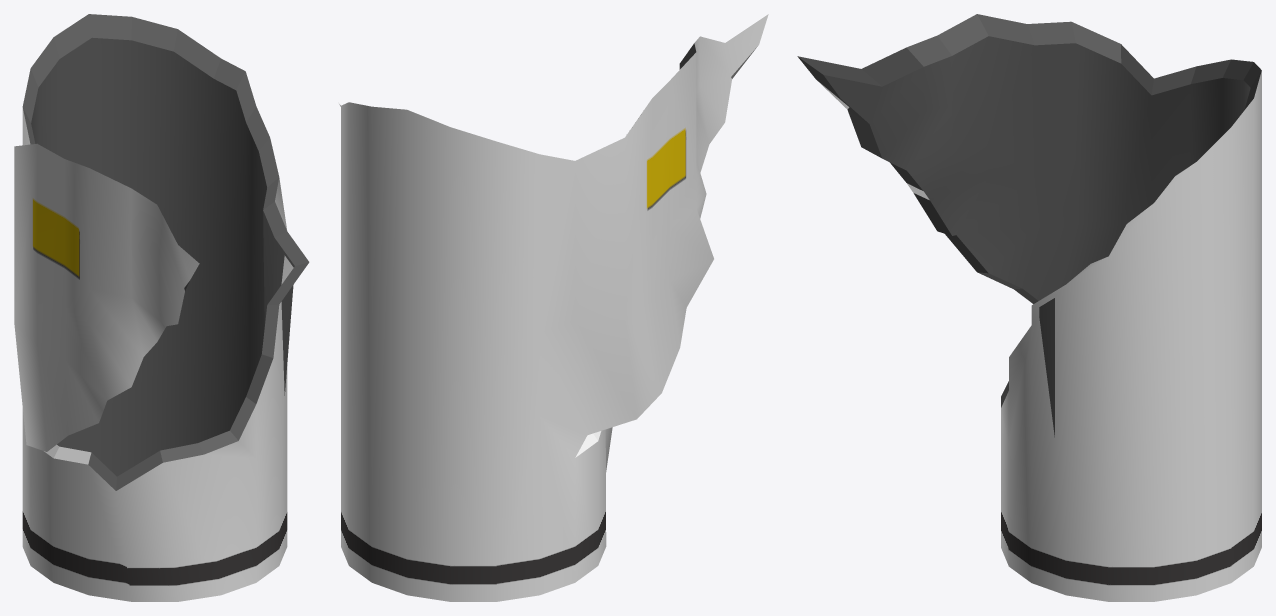
The model's file is oxygentank.FBX.
3 views of the same model, side by side, from view 1: azimuth 30°, elevation 25°; view 2: azimuth 150°, elevation 25°; view 3: azimuth 270°, elevation 25° (orthographic).
Visible parts, largest first — view 1: Object002; view 2: Object002; view 3: Object002.
Part boxes in pixels (<box>): Object002: <box>14,14,309,601</box>; Object002: <box>339,14,768,601</box>; Object002: <box>797,14,1261,601</box>.
Bounding box in the file's own units: 54 × 84.54 × 95.85.
